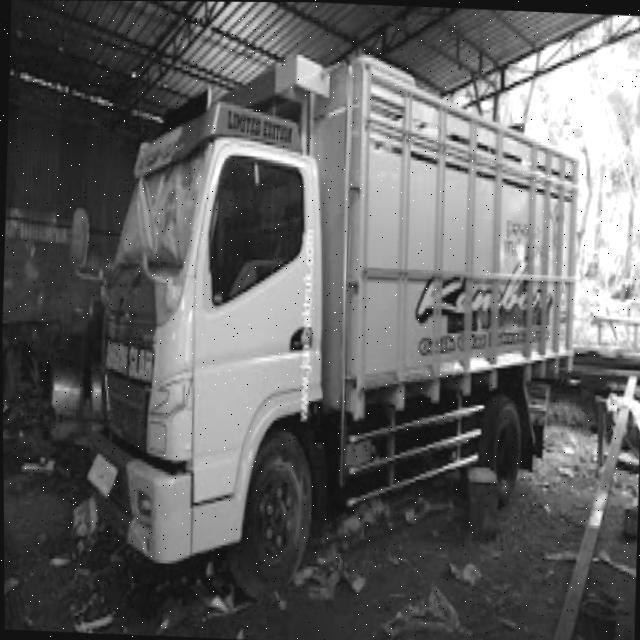truck: (56, 24, 585, 594)
